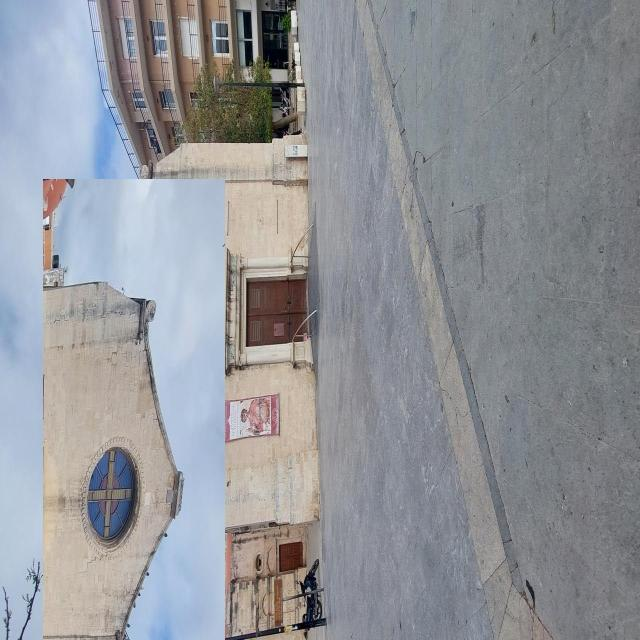Agia Aikaterini: (44, 180, 226, 640)
